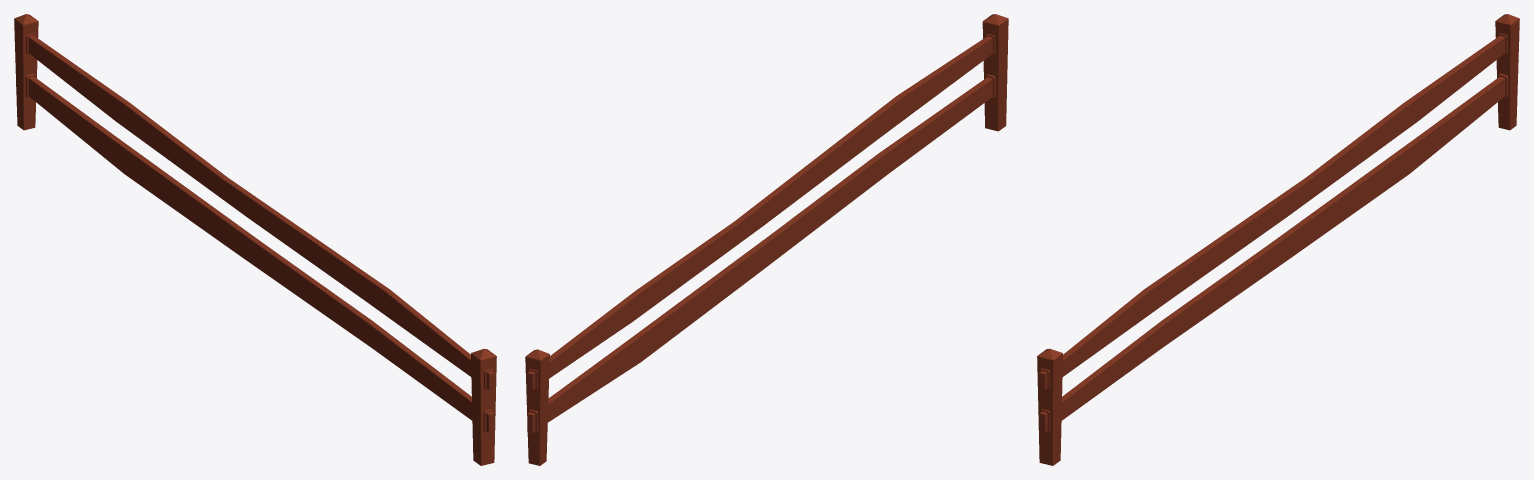
Rendered from Fence16.fbx.
3 renders of one model, left to right at view 1: azimuth 30°, elevation 25°; view 2: azimuth 150°, elevation 25°; view 3: azimuth 330°, elevation 25°, orthographic.
Visible parts, largest first — view 1: Fence16; view 2: Fence16; view 3: Fence16.
Boxes of the visible parts, x1,y1,x2,y2 form: Fence16: (14,14,496,465); Fence16: (525,14,1008,465); Fence16: (1037,14,1519,465).
Bounding box in the file's own units: 33.4 × 214 × 1628.
